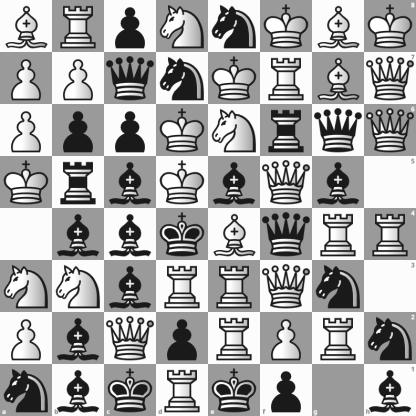B: (1, 1, 52, 52), (209, 209, 260, 260), (313, 1, 364, 52), (313, 53, 364, 104)
K: (364, 0, 416, 52), (1, 157, 52, 208), (157, 105, 208, 156), (157, 157, 208, 208), (209, 53, 260, 104), (261, 1, 312, 52)
N: (1, 261, 52, 312), (53, 261, 104, 312), (157, 1, 208, 52), (209, 105, 260, 156)
P: (1, 53, 52, 104), (1, 105, 52, 156), (1, 313, 52, 364), (53, 53, 104, 104), (261, 313, 312, 364)
Q: (364, 52, 416, 104), (364, 104, 416, 156), (105, 313, 156, 364), (261, 157, 312, 208), (261, 261, 312, 312)
R: (156, 364, 209, 416), (364, 209, 416, 260), (53, 1, 104, 52), (157, 261, 208, 312), (209, 261, 260, 312), (209, 313, 260, 364), (261, 53, 312, 104), (313, 209, 364, 260), (313, 313, 364, 364)
b: (52, 364, 104, 416), (364, 364, 416, 416), (53, 209, 104, 260), (53, 313, 104, 364), (105, 157, 156, 208), (105, 209, 156, 260), (105, 261, 156, 312), (209, 157, 260, 208), (313, 157, 364, 208)
board: (0, 0, 415, 415)
k: (104, 364, 156, 416), (209, 364, 260, 416), (157, 209, 208, 260)
n: (0, 364, 52, 416), (364, 312, 416, 364), (157, 53, 208, 104), (209, 1, 260, 52), (313, 261, 364, 312)
p: (260, 364, 312, 416), (53, 105, 104, 156), (105, 1, 156, 52), (105, 105, 156, 156), (157, 313, 208, 364)
q: (105, 53, 156, 104), (261, 209, 312, 260), (313, 105, 364, 156)
r: (53, 157, 104, 208), (261, 105, 312, 156)
